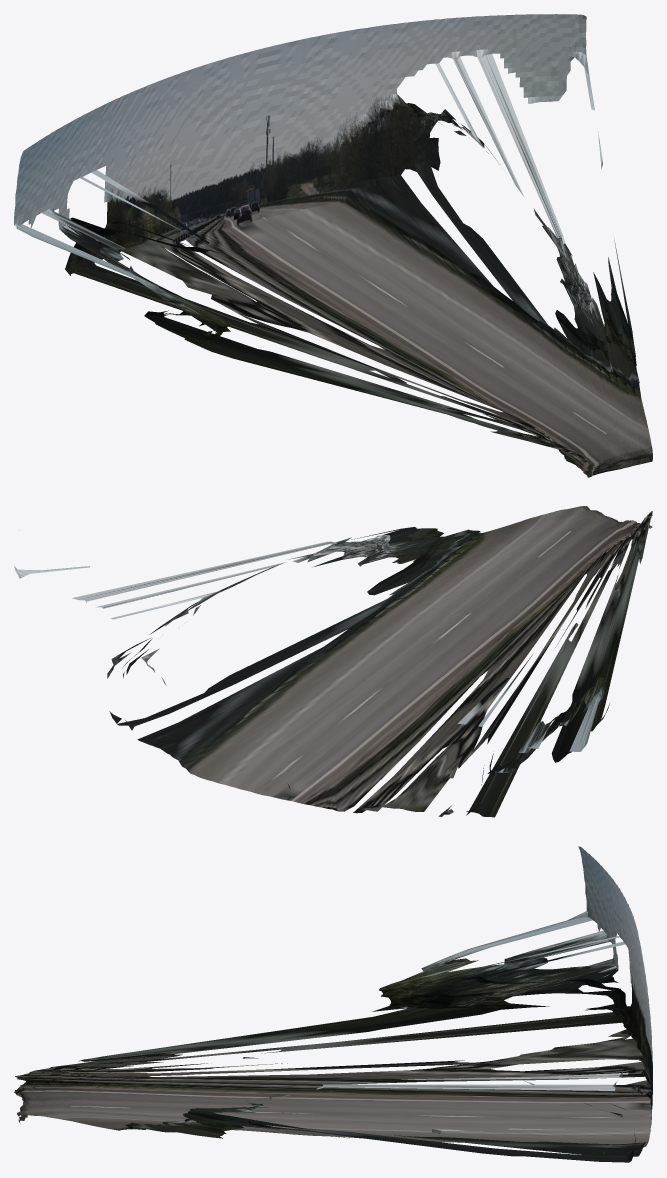
3 renders of one model, top to bottom at view 1: azimuth 30°, elevation 25°; view 2: azimuth 150°, elevation 25°; view 3: azimuth 270°, elevation 25°, orthographic. The views are drawn at different scales.
Visible parts, largest first — view 1: defaultobject; view 2: defaultobject; view 3: defaultobject.
Part boxes in pixels (box(x1,y1,x2,y2)): defaultobject: box(14, 14, 652, 477); defaultobject: box(14, 506, 652, 817); defaultobject: box(14, 846, 652, 1162).
Size of the model in its own units: 40.88 by 12.42 by 44.55.
1 material, 1 textured.
